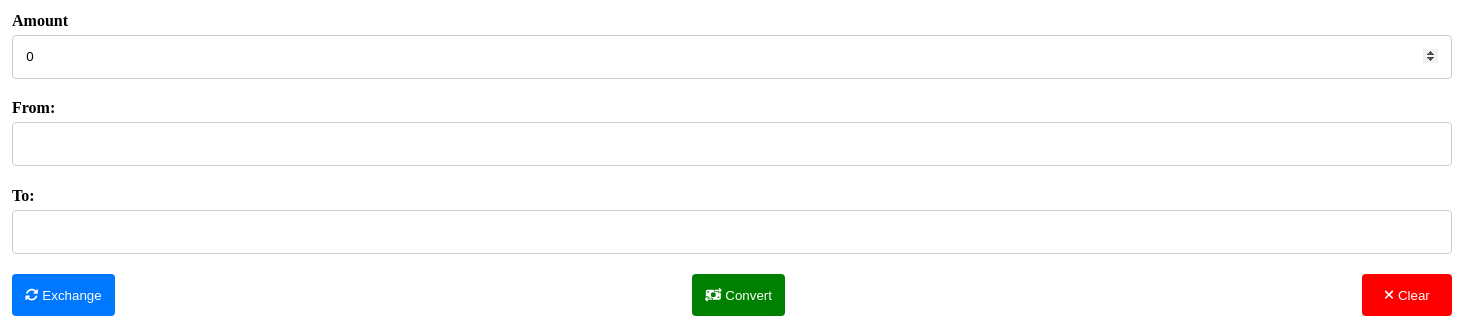
Scenario: currenciesForm Component › check if values swap places
The width and height of the screenshot is (1464, 333).
Replace the text in the number field labelled "Amount" with "20". click: (732,57)
box: left=12, top=35, right=1452, bottom=79
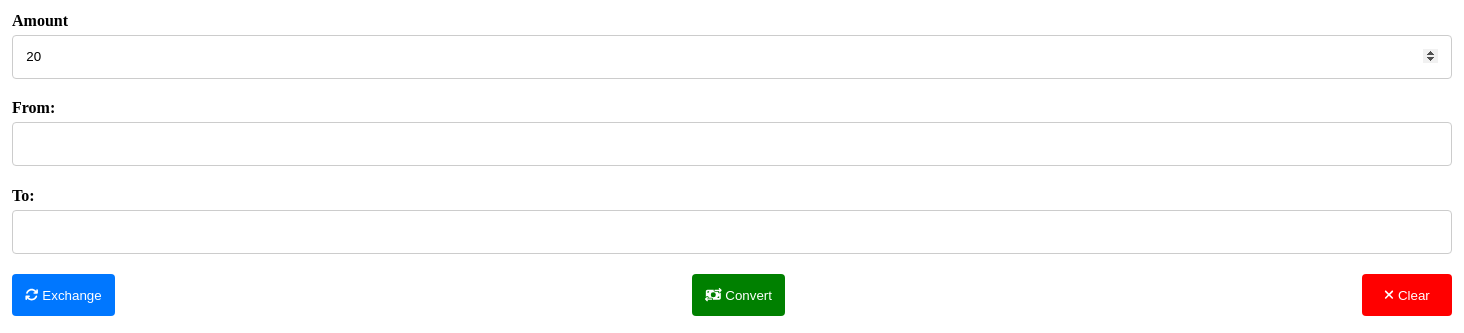
Type "ALL - Albanian Lek" into the field labelled "From:". click: (732,144)
box: left=12, top=122, right=1452, bottom=166
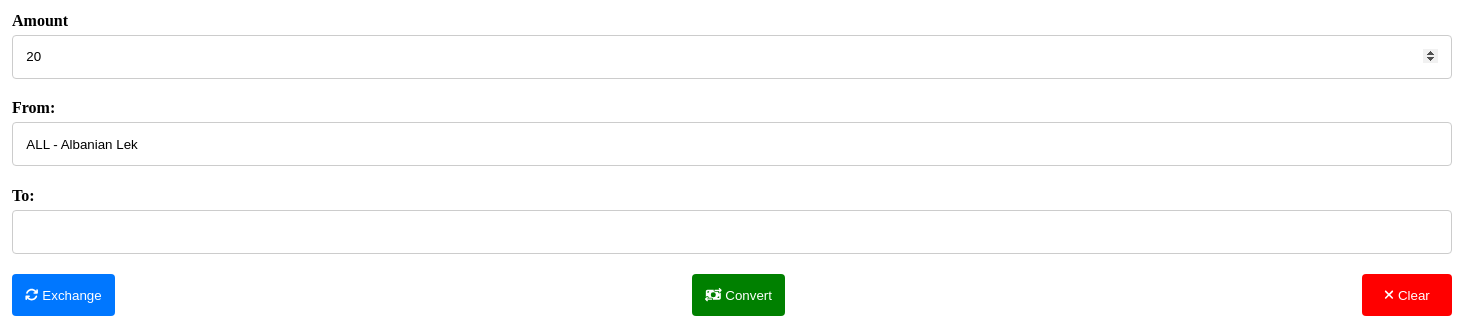
Type "USD - United States Dollar" into the field labelled "To:". click: (732,232)
box: left=12, top=210, right=1452, bottom=254
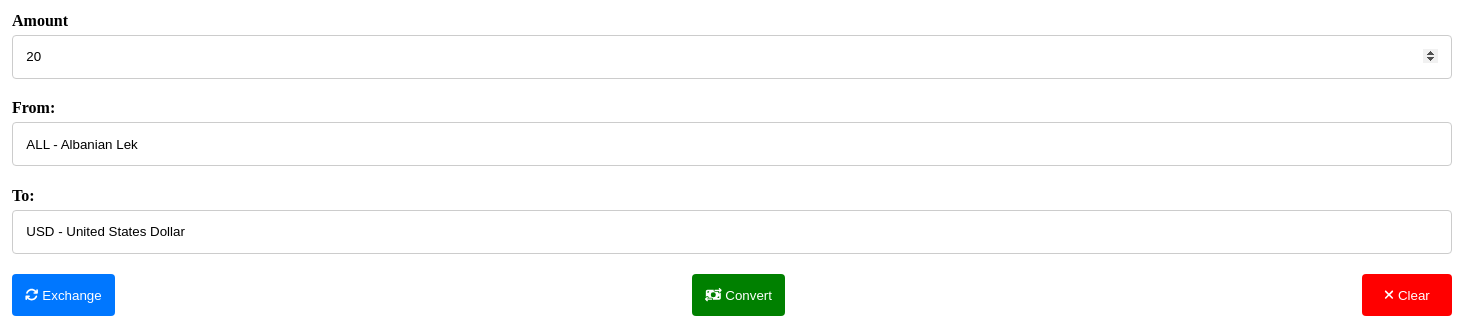
Click the button "Exchange". click: (64,295)
box: left=12, top=274, right=115, bottom=316
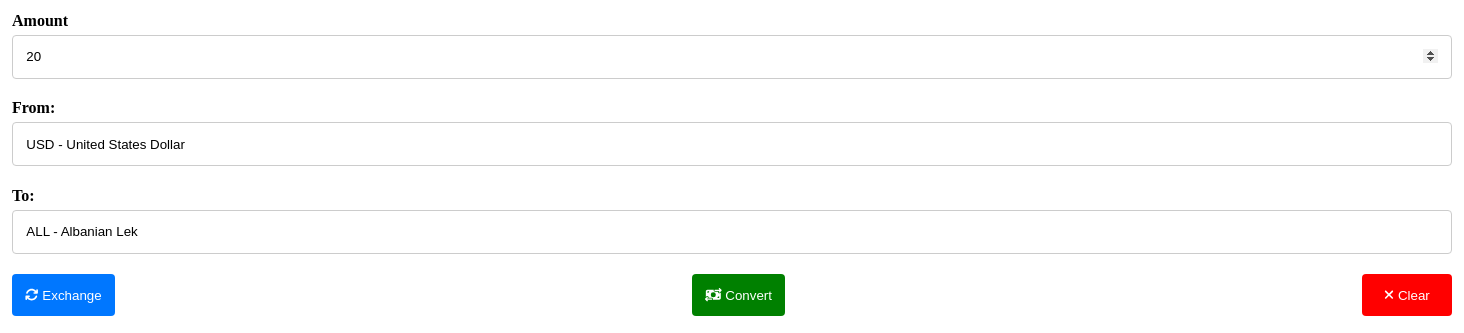
Check: the field labelled "From:" holds "USD - United States Dollar", box left=12, top=122, right=1452, bottom=166
Check: the field labelled "To:" holds "ALL - Albanian Lek", box left=12, top=210, right=1452, bottom=254
